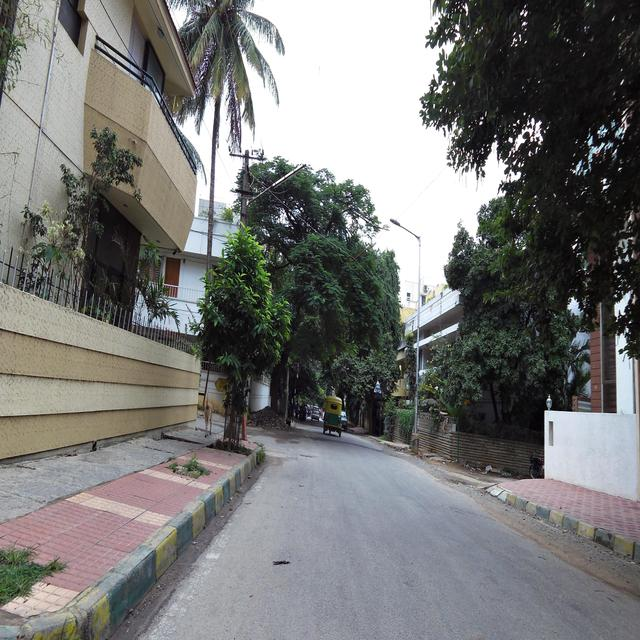Car: (311, 406, 347, 430)
Motorcycle: (529, 449, 543, 478)
Vegetation: (23, 120, 180, 333)
